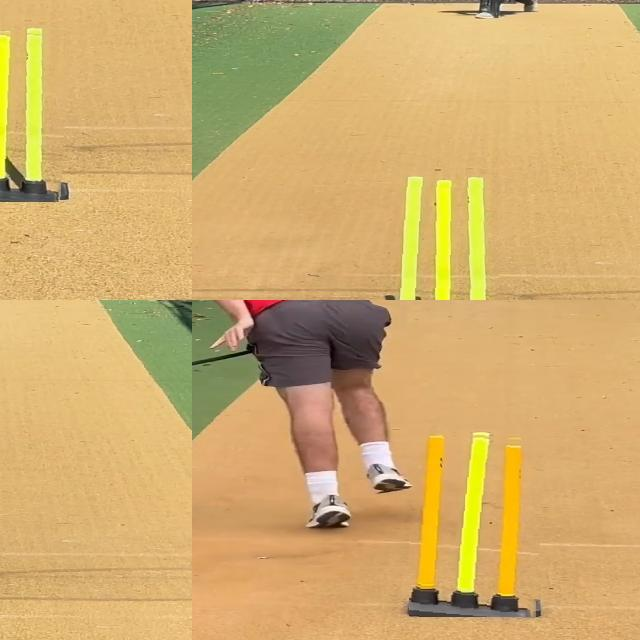Stumps: (409, 430, 546, 617), (391, 168, 502, 300), (0, 27, 69, 202)
